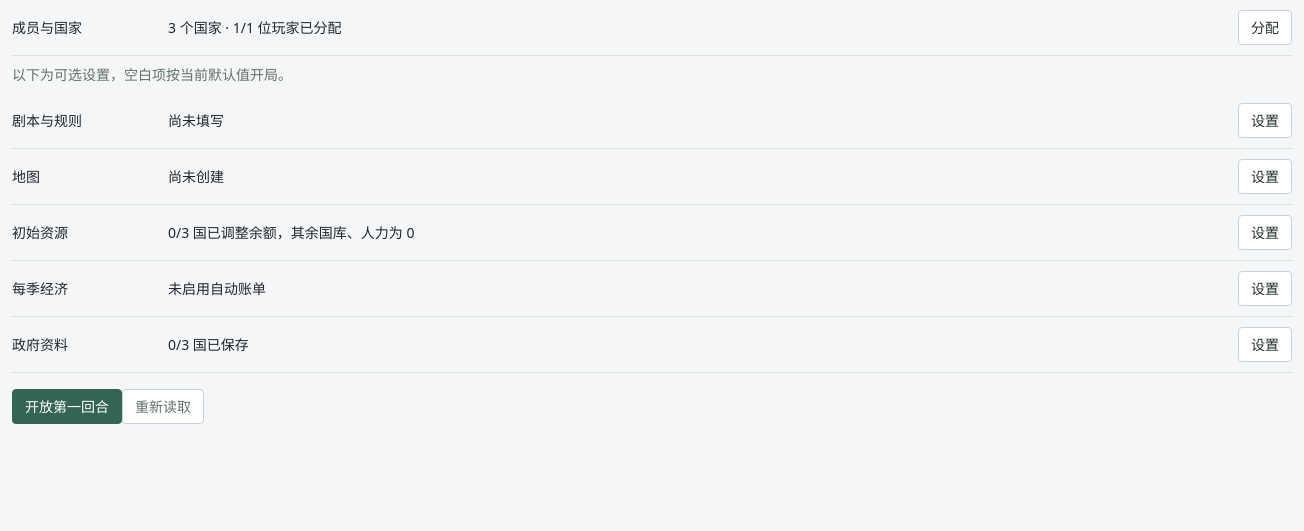
Scenario: keeps the reviewed revision on failure and permits an explicit refresh
Expected: the text "尚未创建" is shown, [168,167,224,186]
What coordinates should you click on to do the following:
click the button "开放第一回合"
I would click on:
 (67, 406)
Its box is [12,389,122,424].
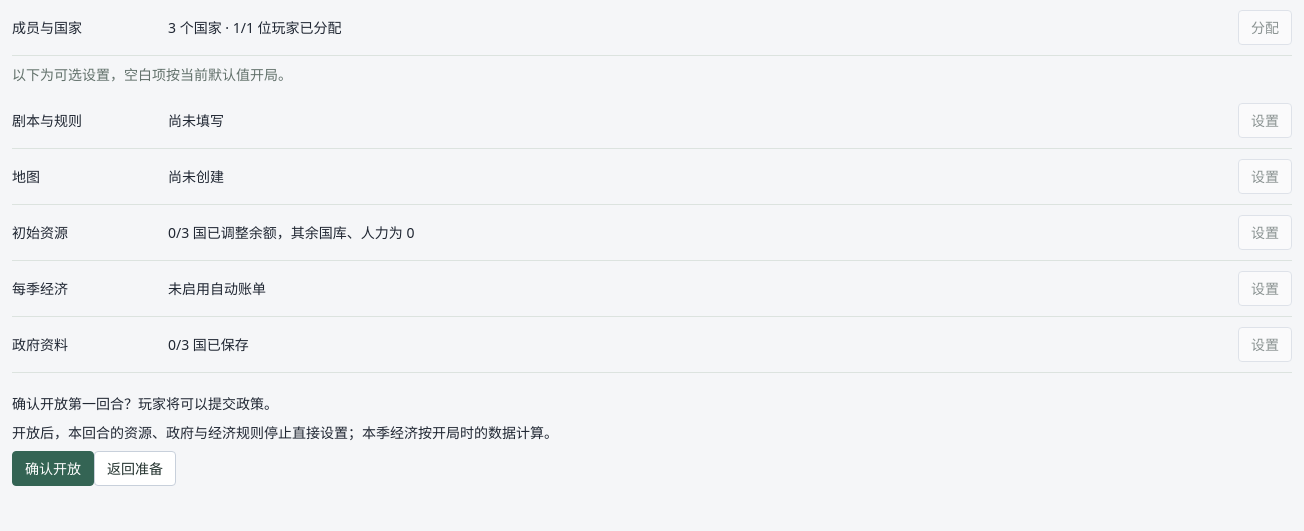
Expected: the element named "确认开局" is shown, [12,394,558,486]
What coordinates should you click on to do the following:
click the button "确认开放"
I would click on:
 (53, 468)
Its box is [12,451,94,486].
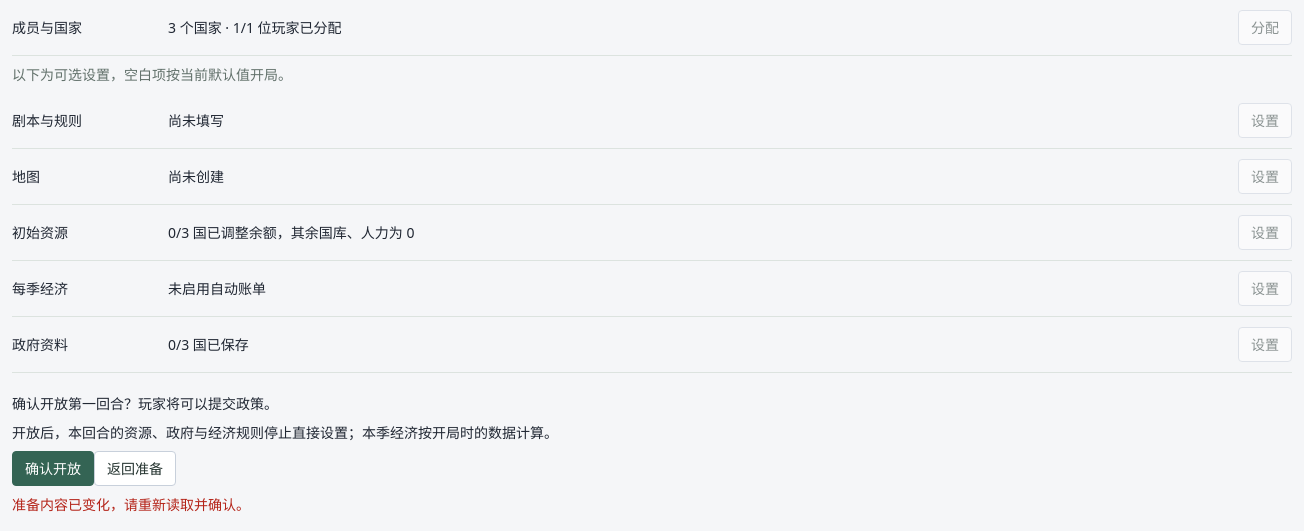
Expected: the element named "确认开局" is shown, [12,394,558,486]
Expected: the message shows "准备内容已变化", [12,495,250,514]
What coordinates should you click on to do the following:
click the button "返回准备"
I would click on:
 (135, 468)
Its box is [94,451,176,486].
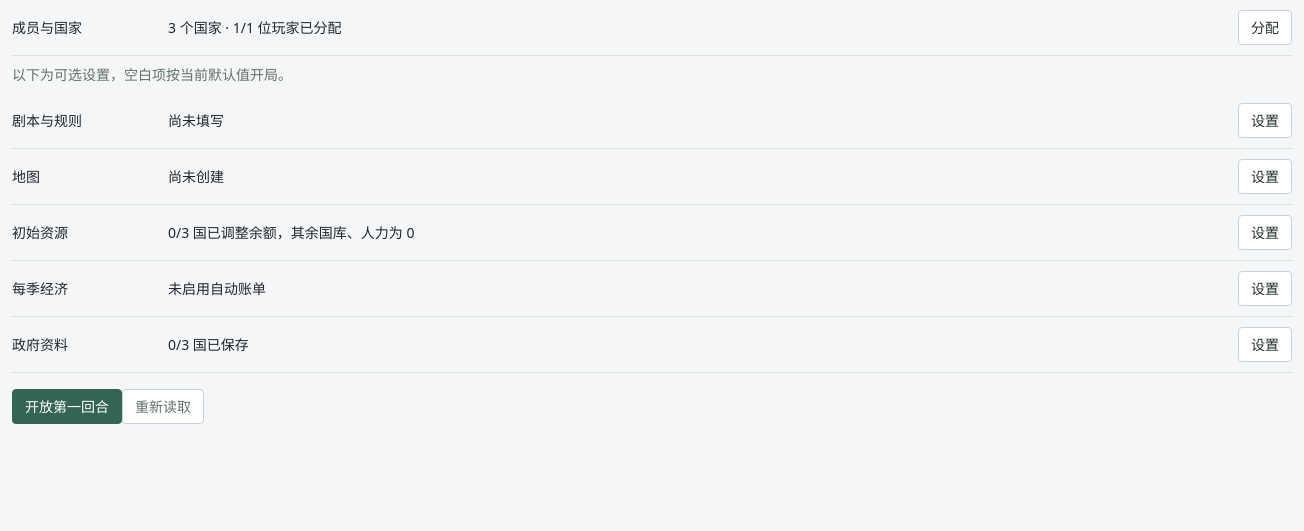
Expected: the message "准备内容已变化，请重新读取并确认。" is gone
